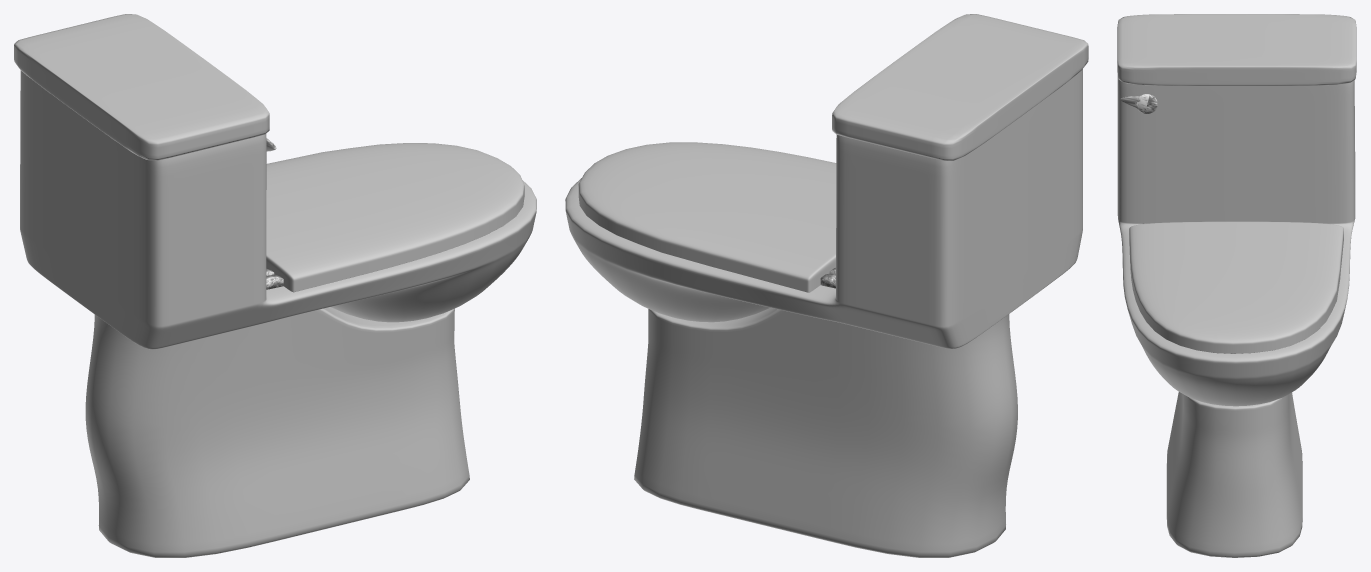
The model's file is Privada.fbx.
The picture shows the model from 3 angles, left to right: view 1: azimuth 30°, elevation 25°; view 2: azimuth 150°, elevation 25°; view 3: azimuth 270°, elevation 25°; orthographic projection. The views are drawn at different scales.
Parts seen in each view (by area): view 1: Baixo, Cuba, Tampa, Tampao; view 2: Baixo, Cuba, Tampa, Tampao; view 3: Cuba, Tampa, Baixo, Tampao, Sphere.
Part boxes in pixels (x1=…): Baixo: x1=85, y1=307, x2=469, y2=557; Cuba: x1=20, y1=70, x2=536, y2=349; Tampa: x1=266, y1=143, x2=524, y2=292; Tampao: x1=14, y1=14, x2=269, y2=160; Baixo: x1=634, y1=308, x2=1017, y2=557; Cuba: x1=565, y1=69, x2=1082, y2=348; Tampa: x1=578, y1=142, x2=836, y2=292; Tampao: x1=832, y1=14, x2=1088, y2=160; Cuba: x1=1117, y1=75, x2=1355, y2=406; Tampa: x1=1129, y1=221, x2=1343, y2=353; Baixo: x1=1166, y1=392, x2=1302, y2=557; Tampao: x1=1117, y1=14, x2=1356, y2=85; Sphere: x1=1120, y1=94, x2=1157, y2=113.
Bounding box in the file's own units: 406 × 404 × 224.
